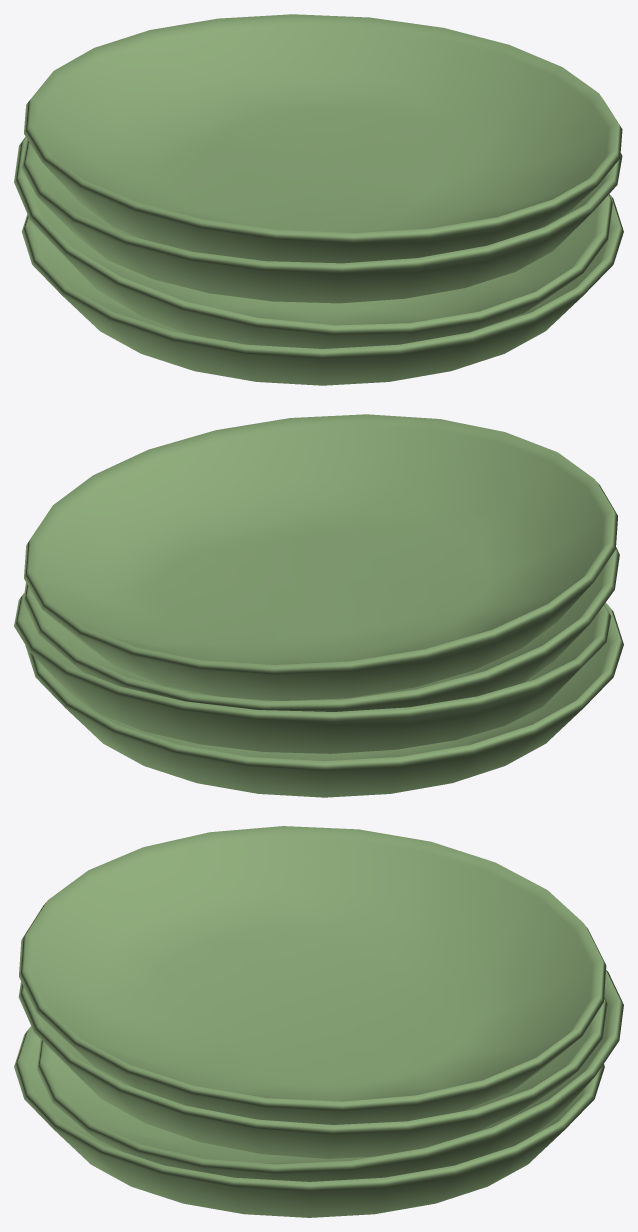
The model's file is Plate_Pile_01_Lod0.fbx.
The picture shows the model from 3 angles, top to bottom: view 1: azimuth 30°, elevation 25°; view 2: azimuth 150°, elevation 25°; view 3: azimuth 270°, elevation 25°; orthographic projection.
Visible parts, largest first — view 1: Plate_Pile_01_Lod0; view 2: Plate_Pile_01_Lod0; view 3: Plate_Pile_01_Lod0.
Part boxes in pixels (box(x1,y1,x2,y2)): Plate_Pile_01_Lod0: box(14, 14, 623, 385); Plate_Pile_01_Lod0: box(14, 414, 623, 797); Plate_Pile_01_Lod0: box(14, 826, 623, 1217).
Size of the model in its own units: 23.89 by 8.84 by 24.64.
